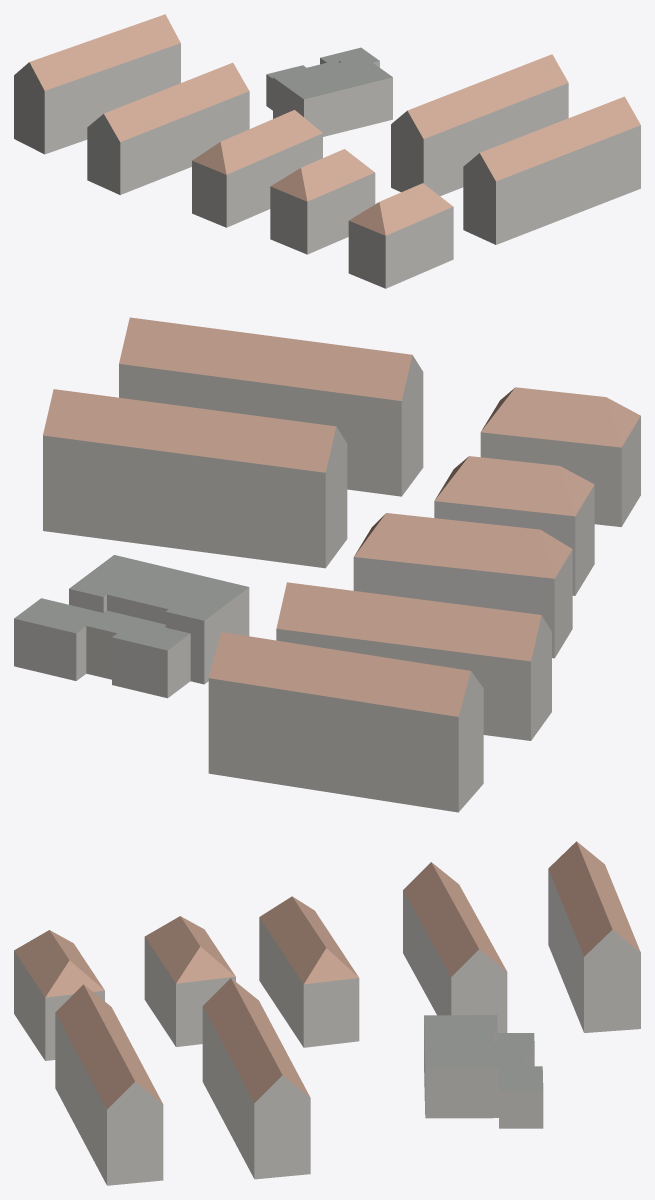
Rendered from gridID_76.dae.
3 views of the same model, one above another, from view 1: azimuth 30°, elevation 25°; view 2: azimuth 150°, elevation 25°; view 3: azimuth 270°, elevation 25° (orthographic). The views are drawn at different scales.
Parts seen in each view (by area): view 1: model_gridID_76_w383801380, model_gridID_76_w383801390, model_gridID_76_w383801376, model_gridID_76_w383801389, model_gridID_76_w383801382, model_gridID_76_w383801387, model_gridID_76_w383801379, model_gridID_76_w383801374, model_gridID_76_w383801401_002, model_gridID_76_w383801401_001; view 2: model_gridID_76_w383801376, model_gridID_76_w383801390, model_gridID_76_w383801380, model_gridID_76_w383801389, model_gridID_76_w383801382, model_gridID_76_w383801387, model_gridID_76_w383801379, model_gridID_76_w383801374, model_gridID_76_w383801401_002, model_gridID_76_w383801401_001; view 3: model_gridID_76_w383801376, model_gridID_76_w383801380, model_gridID_76_w383801390, model_gridID_76_w383801389, model_gridID_76_w383801382, model_gridID_76_w383801379, model_gridID_76_w383801374, model_gridID_76_w383801387, model_gridID_76_w383801401_001, model_gridID_76_w383801401_002.
Boxes of the visible parts, x1,y1,x2,y2 form: model_gridID_76_w383801380: (463,96,640,244); model_gridID_76_w383801390: (14,14,180,154); model_gridID_76_w383801376: (391,54,568,196); model_gridID_76_w383801389: (87,62,249,194); model_gridID_76_w383801382: (192,110,322,227); model_gridID_76_w383801387: (348,183,453,288); model_gridID_76_w383801379: (270,149,375,254); model_gridID_76_w383801374: (273,55,392,136); model_gridID_76_w383801401_002: (266,63,329,110); model_gridID_76_w383801401_001: (320,47,379,67); model_gridID_76_w383801376: (43,389,347,568); model_gridID_76_w383801390: (208,632,483,812); model_gridID_76_w383801380: (119,317,423,496); model_gridID_76_w383801389: (276,582,551,740); model_gridID_76_w383801382: (353,513,572,658); model_gridID_76_w383801387: (480,387,640,526); model_gridID_76_w383801379: (434,456,594,595); model_gridID_76_w383801374: (69,555,249,684); model_gridID_76_w383801401_002: (86,610,190,698); model_gridID_76_w383801401_001: (14,598,102,680); model_gridID_76_w383801376: (202,978,310,1179); model_gridID_76_w383801380: (55,984,163,1185); model_gridID_76_w383801390: (548,841,640,1032); model_gridID_76_w383801389: (403,862,507,1032); model_gridID_76_w383801382: (259,896,359,1047); model_gridID_76_w383801379: (144,916,235,1046); model_gridID_76_w383801374: (424,1015,498,1118); model_gridID_76_w383801387: (14,930,104,1060); model_gridID_76_w383801401_001: (499,1066,543,1128); model_gridID_76_w383801401_002: (493,1033,534,1066).
Bounding box in the file's own units: 104 × 112 × 20.
